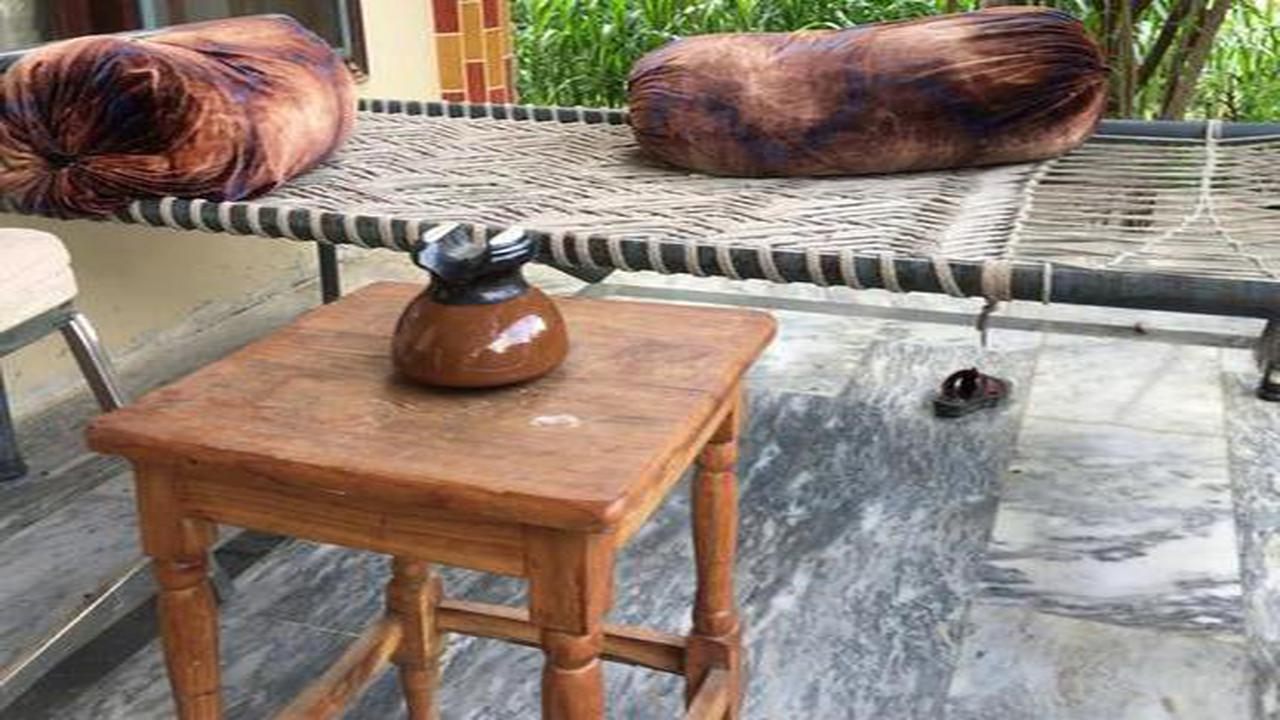insulator_pin: (370, 201, 591, 404)
